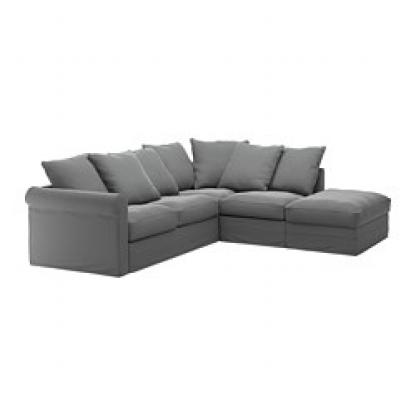Sofa: (17, 122, 396, 286)
